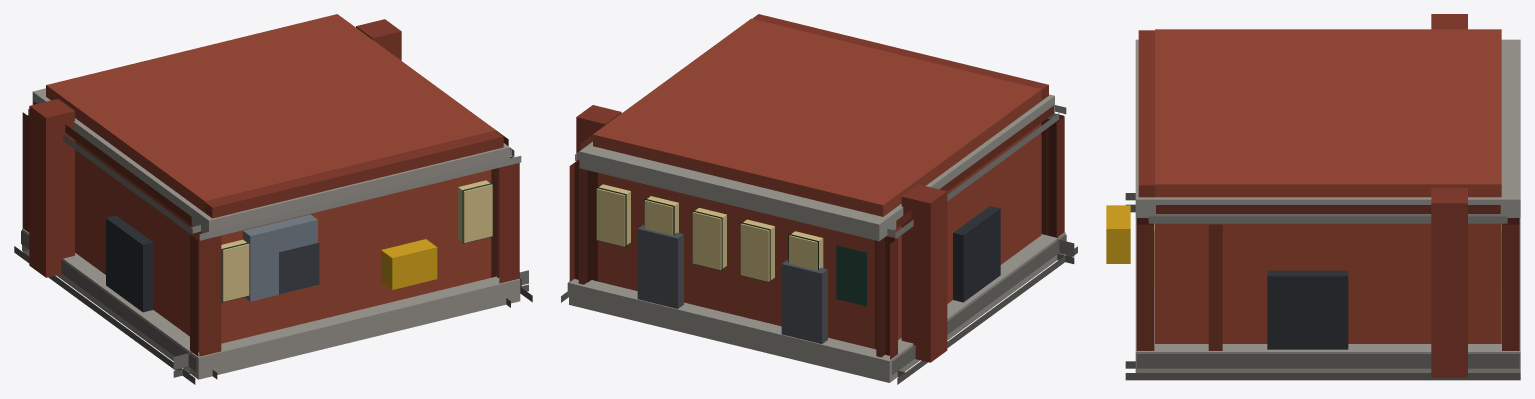
File: RoboDuckSil.fbx
3 views of the same model, side by side, from view 1: azimuth 30°, elevation 25°; view 2: azimuth 150°, elevation 25°; view 3: azimuth 270°, elevation 25° (orthographic). The views are drawn at different scales.
Parts seen in each view (by area): view 1: RD_S_All; view 2: RD_S_All; view 3: RD_S_All.
Boxes of the visible parts, x1,y1,x2,y2 form: RD_S_All: (14,14,532,384); RD_S_All: (561,14,1077,384); RD_S_All: (1106,14,1520,380).
Size of the model in its own units: 44.24 by 20 by 40.94.
